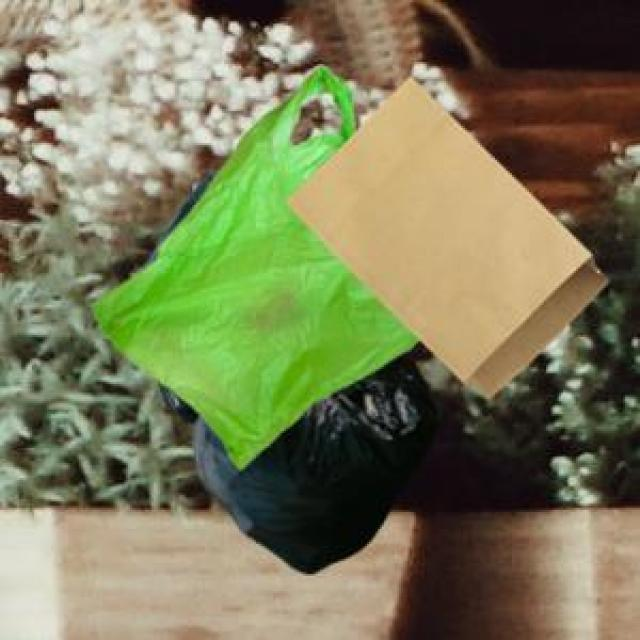miscellaneous trash: (139, 178, 433, 570)
paper: (284, 73, 604, 395)
